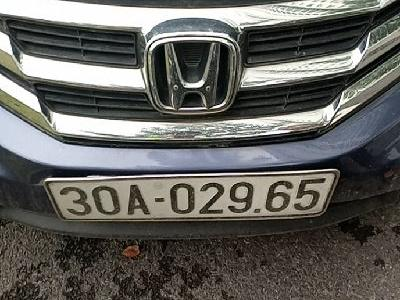lisence: (44, 168, 340, 225)
